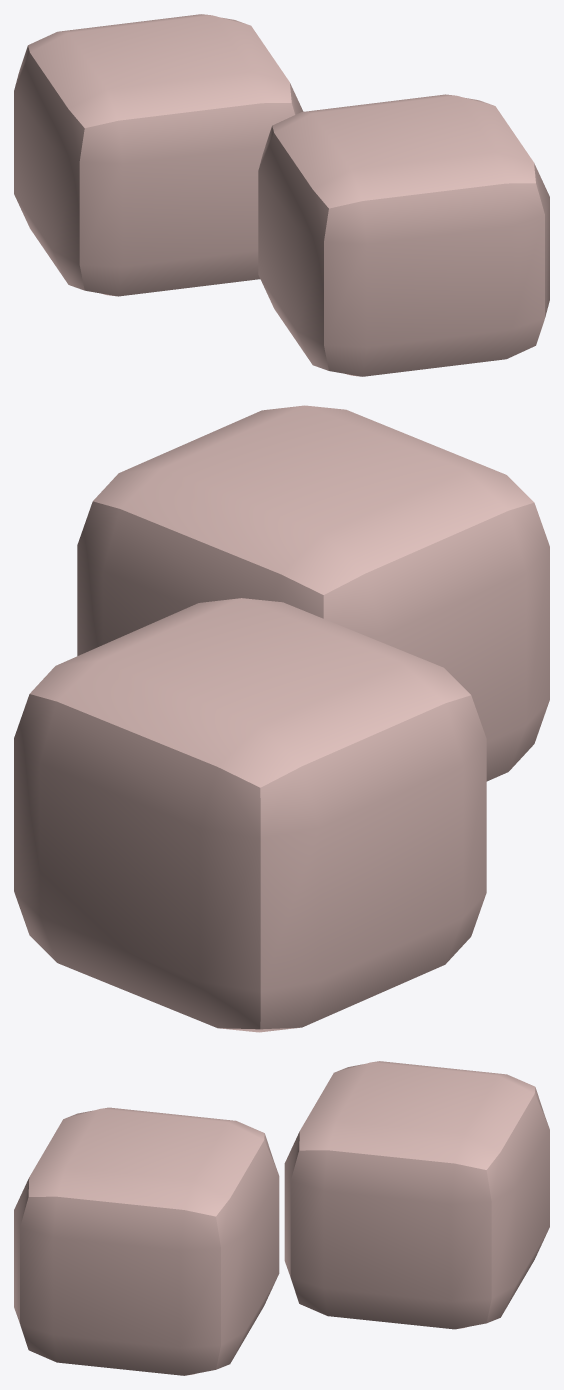
The model's file is SM_DrumstickCube2.fbx.
3 views of the same model, one above another, from view 1: azimuth 30°, elevation 25°; view 2: azimuth 150°, elevation 25°; view 3: azimuth 270°, elevation 25° (orthographic). The views are drawn at different scales.
Visible parts, largest first — view 1: pCube4, pCube7; view 2: pCube7, pCube4; view 3: pCube4, pCube7.
Part boxes in pixels (bbox=[...]): pCube4: bbox=[258, 94, 549, 376]; pCube7: bbox=[14, 14, 303, 296]; pCube7: bbox=[14, 598, 486, 1032]; pCube4: bbox=[77, 405, 549, 781]; pCube4: bbox=[14, 1107, 279, 1375]; pCube7: bbox=[284, 1061, 549, 1329].
Size of the model in its own units: 25.03 by 14.02 by 35.04.
